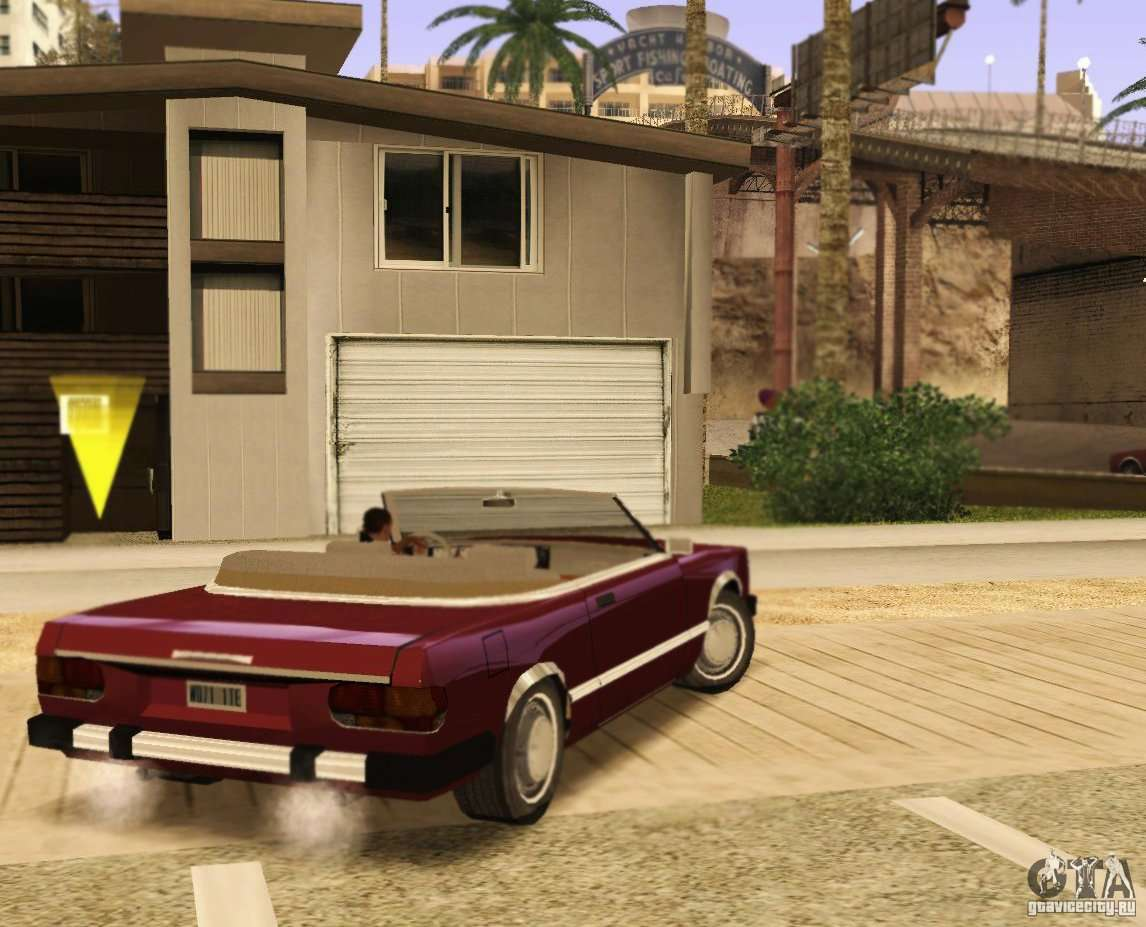car: (23, 482, 758, 829)
